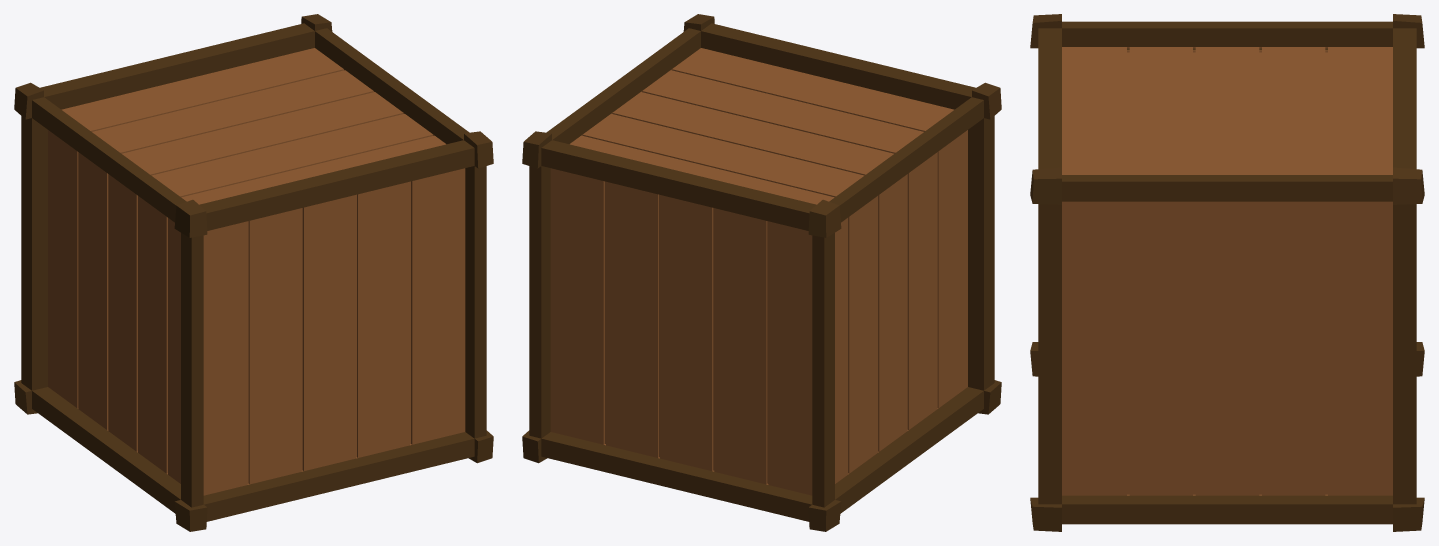
3 views of the same model, side by side, from view 1: azimuth 30°, elevation 25°; view 2: azimuth 150°, elevation 25°; view 3: azimuth 270°, elevation 25° (orthographic). The views are drawn at different scales.
Parts seen in each view (by area): view 1: Cube.007, Cube, Cube.003, Cube.005; view 2: Cube.006, Cube, Cube.003, Cube.005; view 3: Cube.001, Cube, Cube.005.
Part boxes in pixels (left/top/right/bottom): Cube.007: left=203, top=168, right=465, bottom=495; Cube: left=14, top=14, right=493, bottom=531; Cube.003: left=48, top=130, right=180, bottom=483; Cube.005: left=61, top=48, right=445, bottom=204; Cube.006: left=550, top=168, right=812, bottom=495; Cube: left=522, top=14, right=1001, bottom=531; Cube.003: left=835, top=130, right=967, bottom=483; Cube.005: left=570, top=48, right=954, bottom=204; Cube.001: left=1062, top=201, right=1392, bottom=495; Cube: left=1030, top=14, right=1424, bottom=531; Cube.005: left=1062, top=47, right=1392, bottom=174.
Size of the model in its own units: 353 by 353 by 353.
